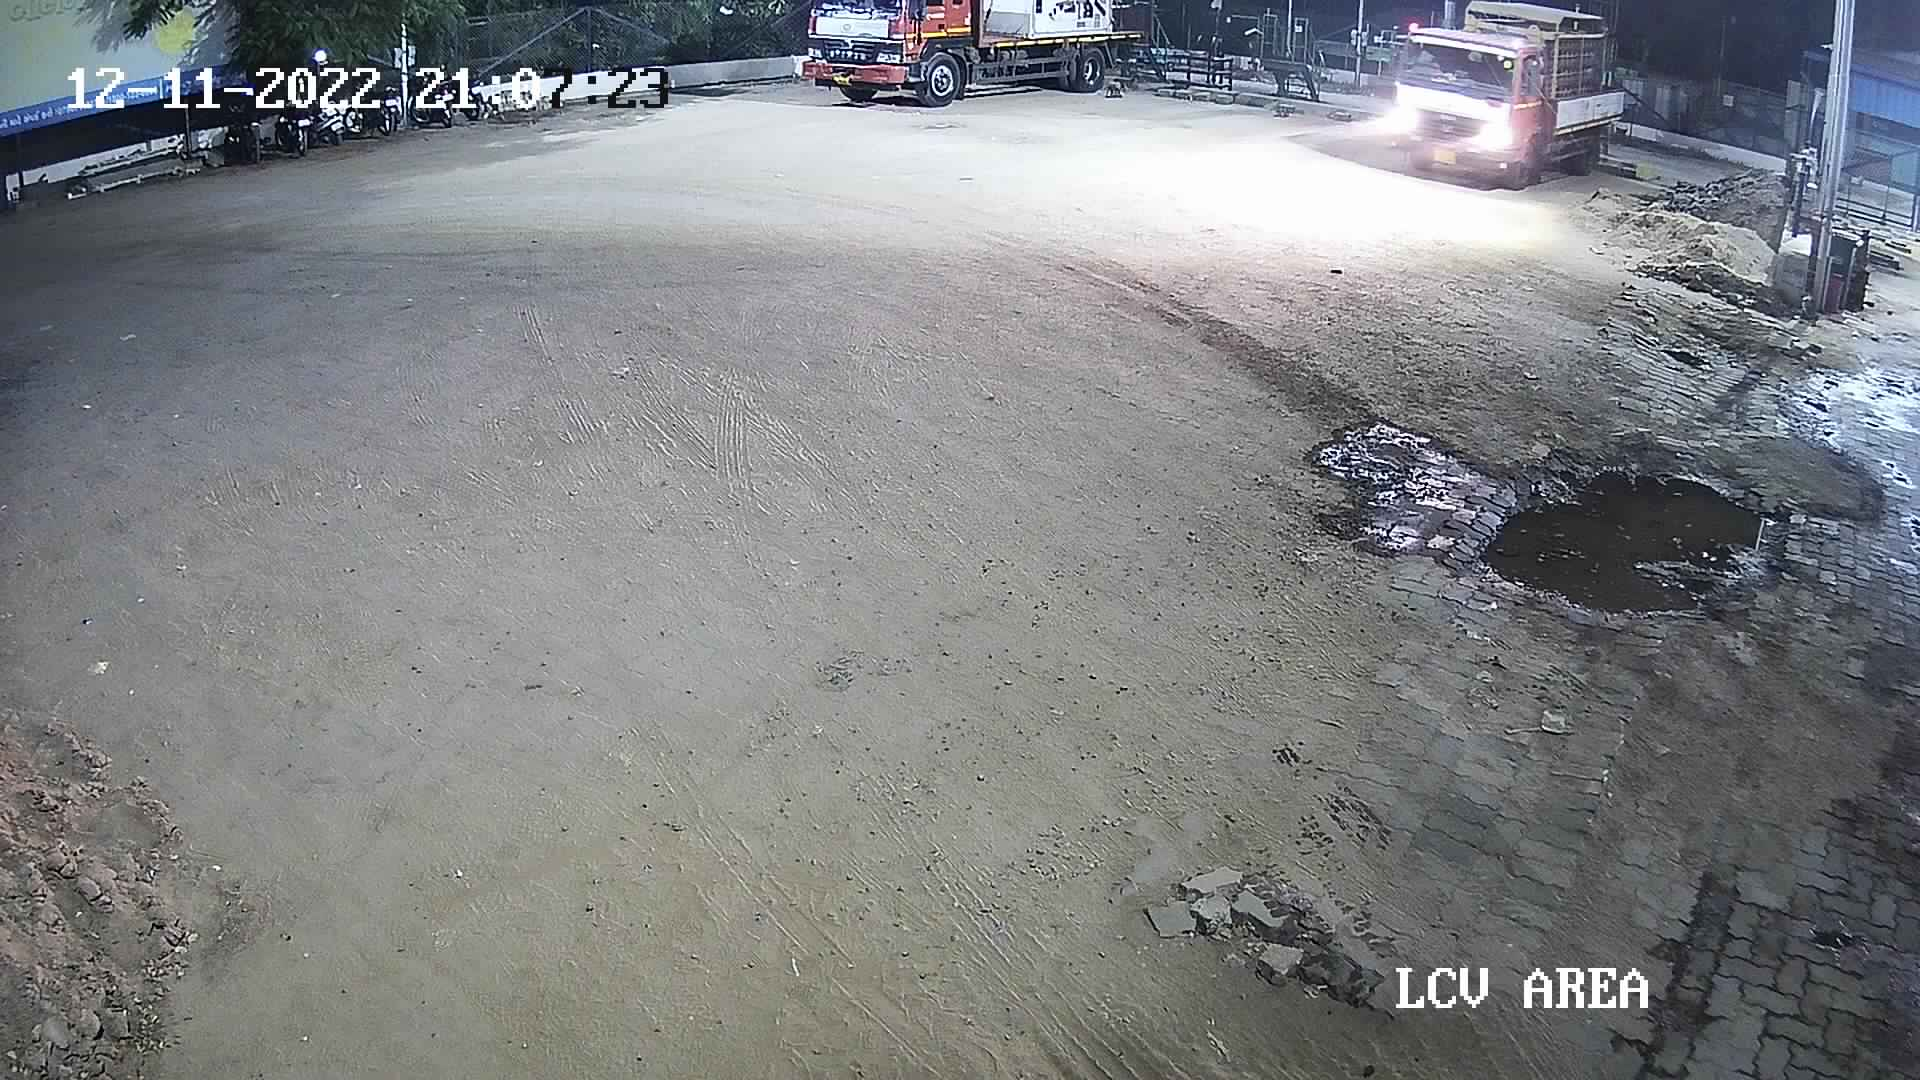HMV: (1373, 0, 1636, 193), (791, 0, 1166, 109)
